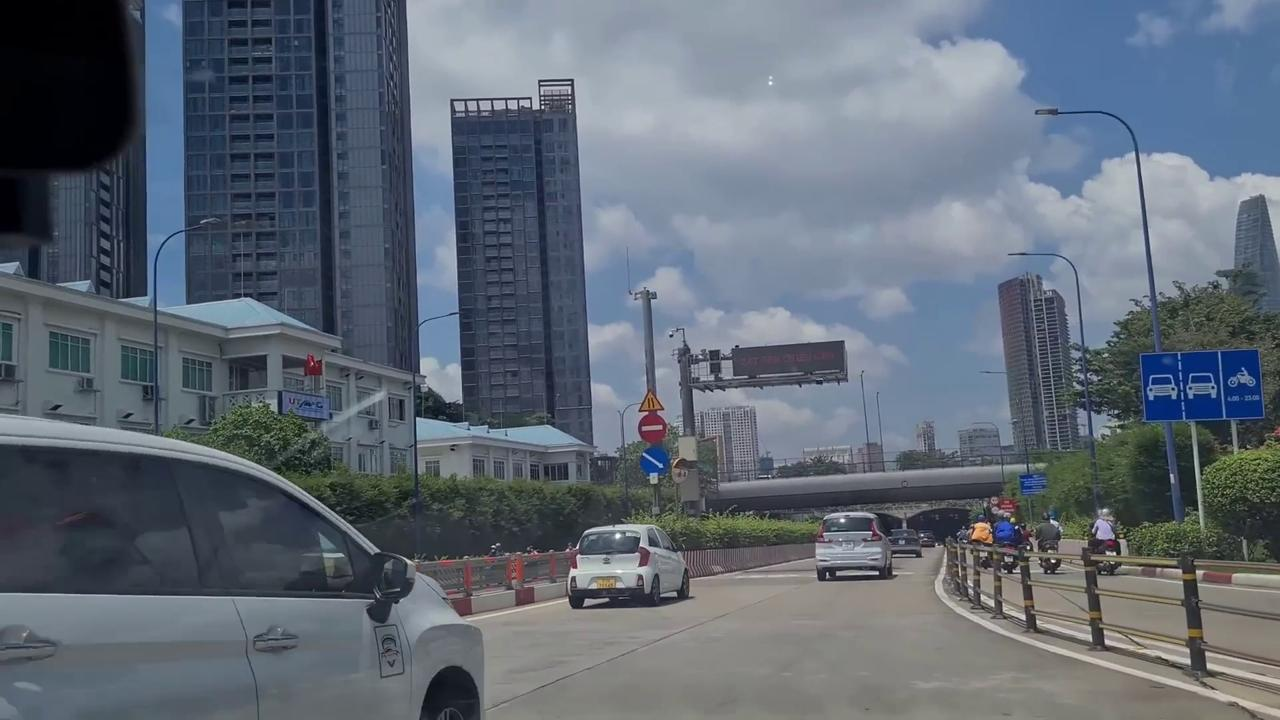Cấm đi ngược chiều: (637, 412, 670, 444)
Hướng phải đi vòng sang phải: (637, 444, 670, 476)
Làn đường cho từng xe: (1138, 349, 1266, 421)
Đuờng hẹp: (636, 388, 667, 413)
